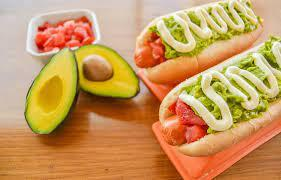Completos: (162, 49, 281, 166), (134, 0, 256, 70)
